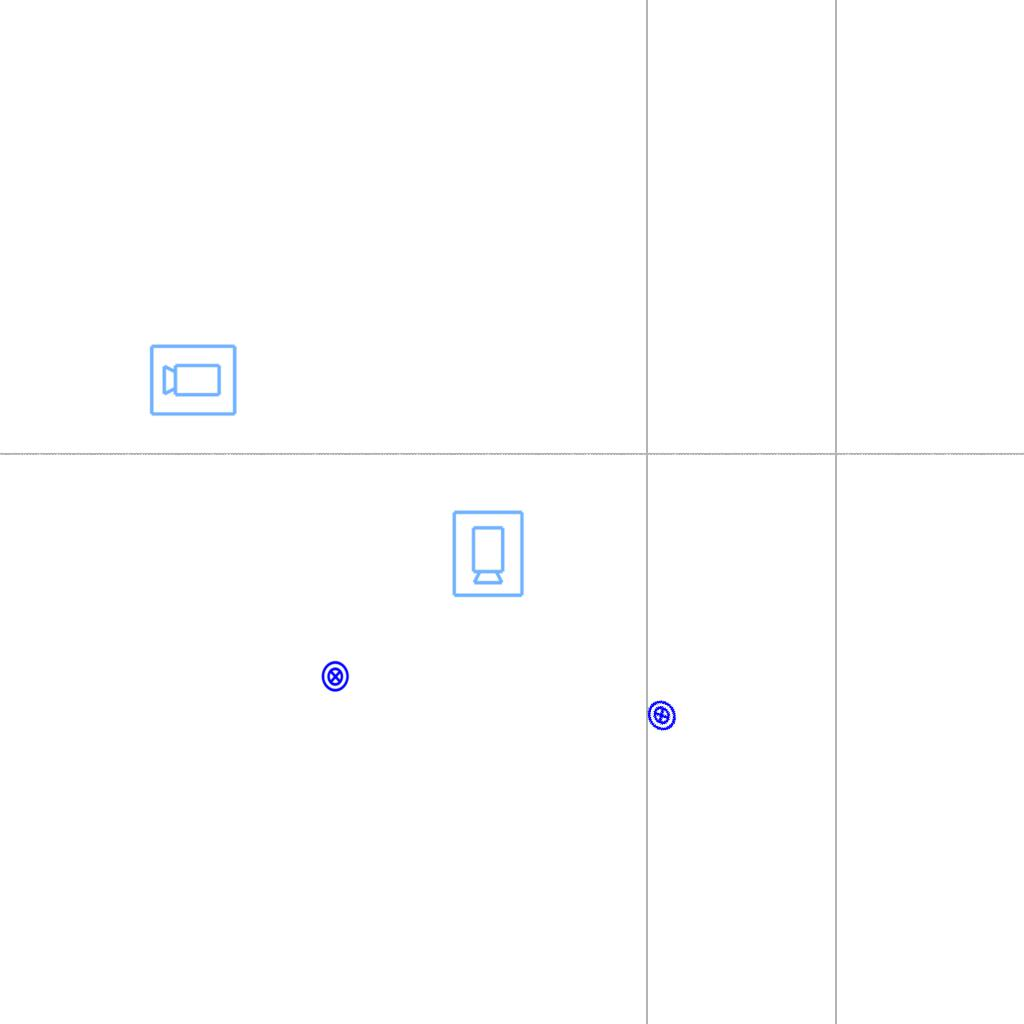KFO_Kamera_mit_Festobjektiv: (148, 341, 239, 418), (449, 508, 526, 599)
Taster_beleuchtet: (639, 693, 684, 738), (319, 660, 352, 693)
